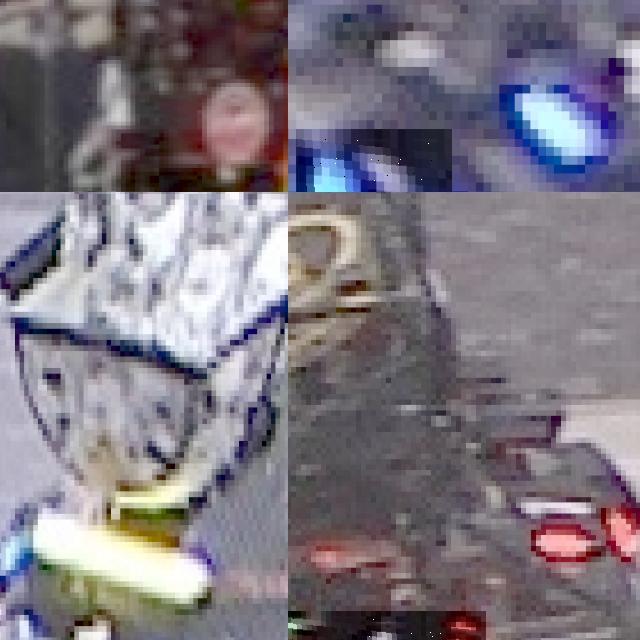B1: (0, 614, 184, 640)
B3: (530, 22, 640, 155), (296, 129, 452, 192)
R1: (288, 611, 486, 640)
